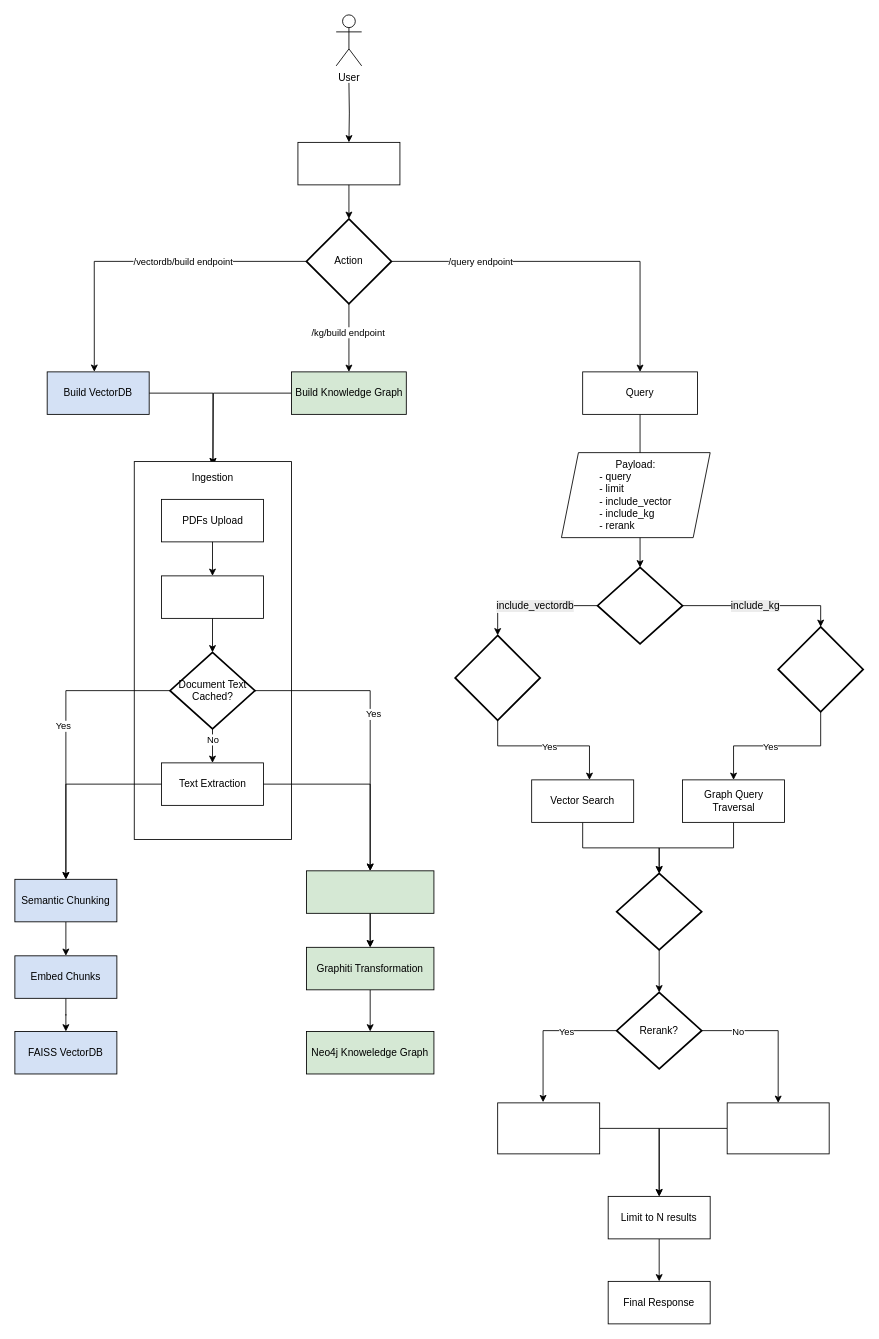
The diagram is 879 pixels wide and 1339 high, and some of its shapes have lost their labels. The box of each missing label's shape, as (x1, y1, x2, y2) in pixels:
Check Cache: (161, 575, 264, 618)
Fuse Results: (615, 872, 702, 950)
HUGO API: (297, 142, 400, 185)
Inteleave/ Concat: (726, 1102, 829, 1154)
KG exists?: (777, 626, 864, 712)
LLM entity / relationships Extraction: (306, 870, 434, 913)
Score Merge + KG Boost: (497, 1102, 600, 1154)
VectorDB exists?: (454, 634, 541, 721)
Which mode?: (596, 566, 683, 644)
